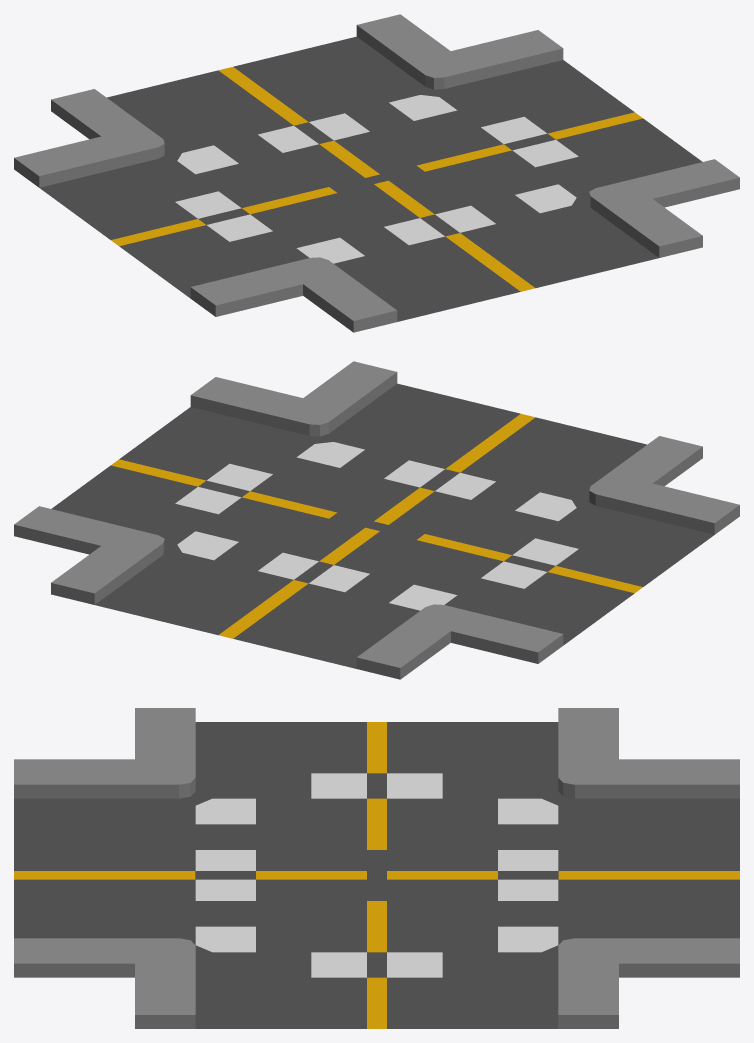
File: prop_road_junction.glb
The picture shows the model from 3 angles, top to bottom: view 1: azimuth 30°, elevation 25°; view 2: azimuth 150°, elevation 25°; view 3: azimuth 270°, elevation 25°; orthographic projection. The views are drawn at different scales.
Parts seen in each view (by area): view 1: intersection road; view 2: intersection road; view 3: intersection road.
Boxes of the visible parts, bbox=[...] form: intersection road: bbox=[14, 14, 739, 332]; intersection road: bbox=[14, 361, 739, 679]; intersection road: bbox=[14, 708, 739, 1028].
Size of the model in its own units: 28.18 by 0.5971 by 28.18.
